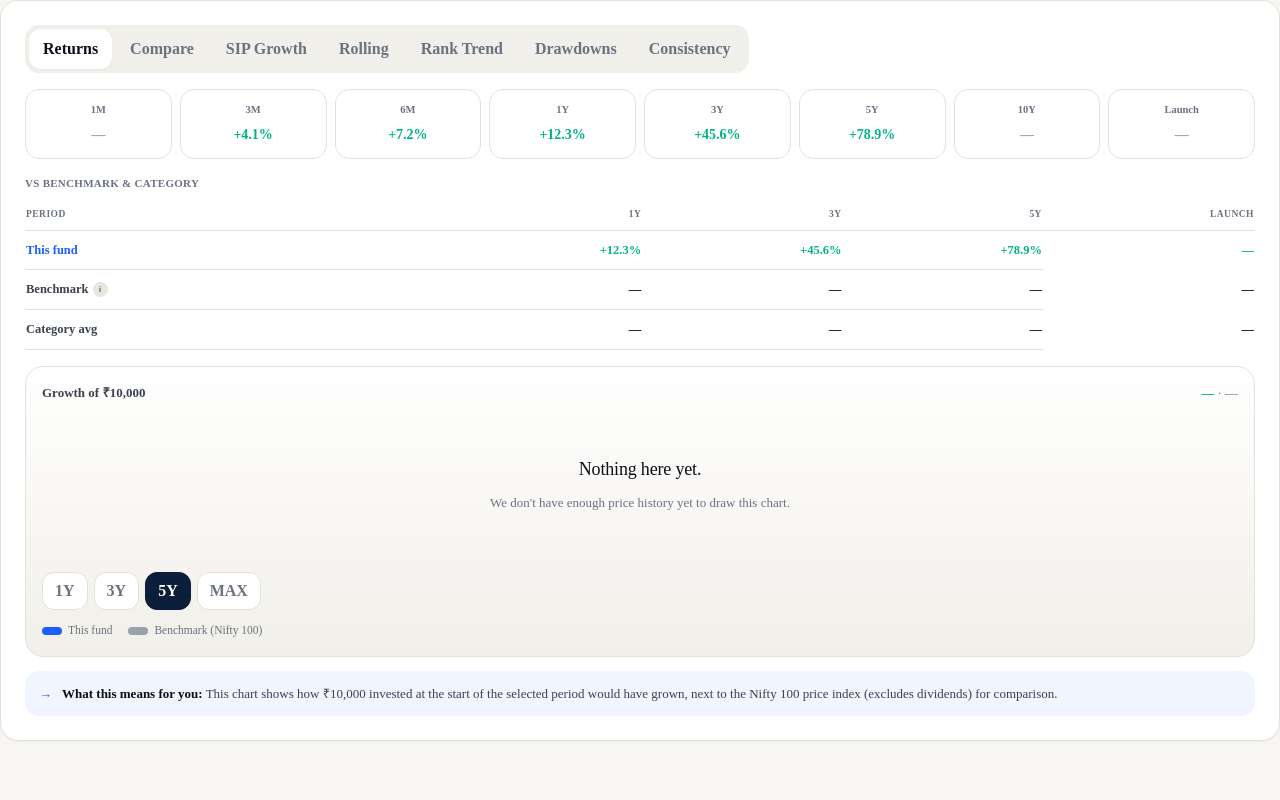
Test: Compare tab (Phase 4c pt4) — fund vs benchmark vs category › renders all three legend entries when all lines are present
The width and height of the screenshot is (1280, 800).
Click the tab "Compare" at (162, 49), box [116,29,208,69]
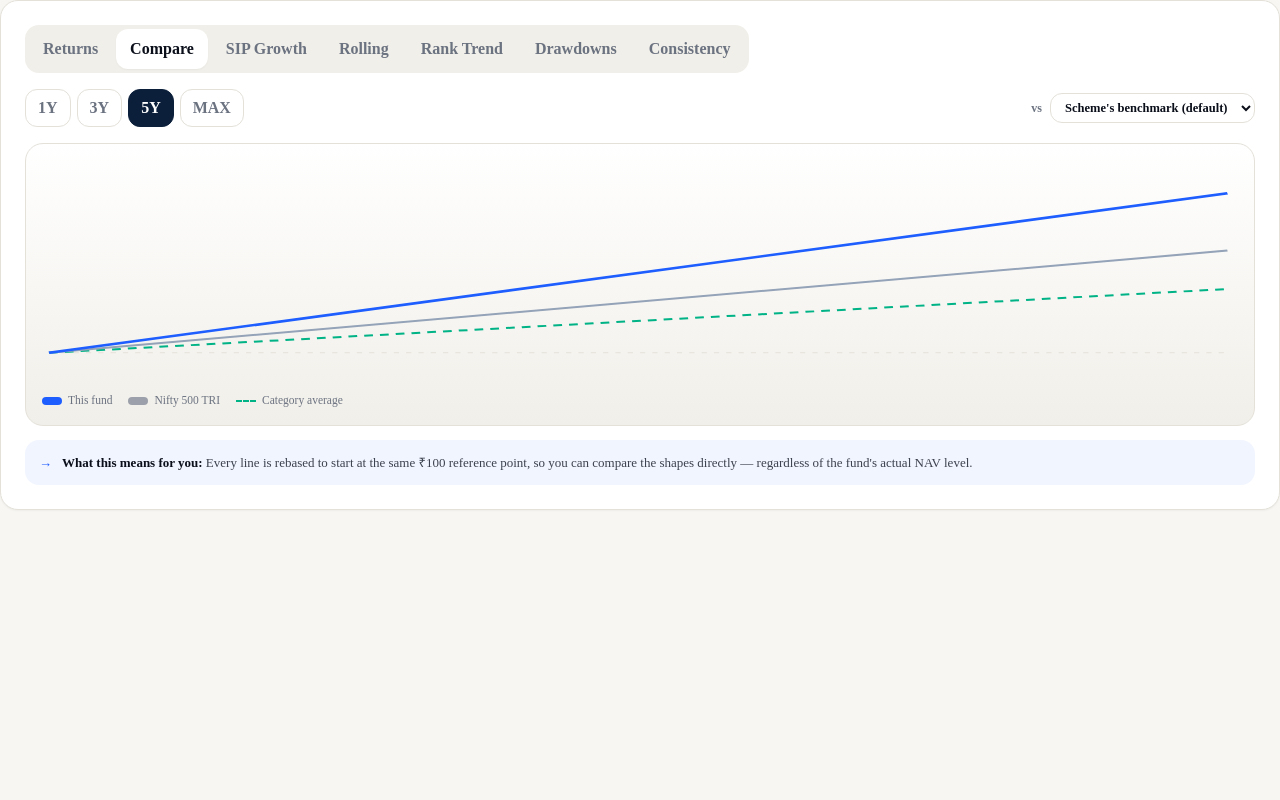
Check: the text "This fund" is shown, box [42,392,112,409]
Check: the text "Category average" is shown, box [236,392,343,409]
